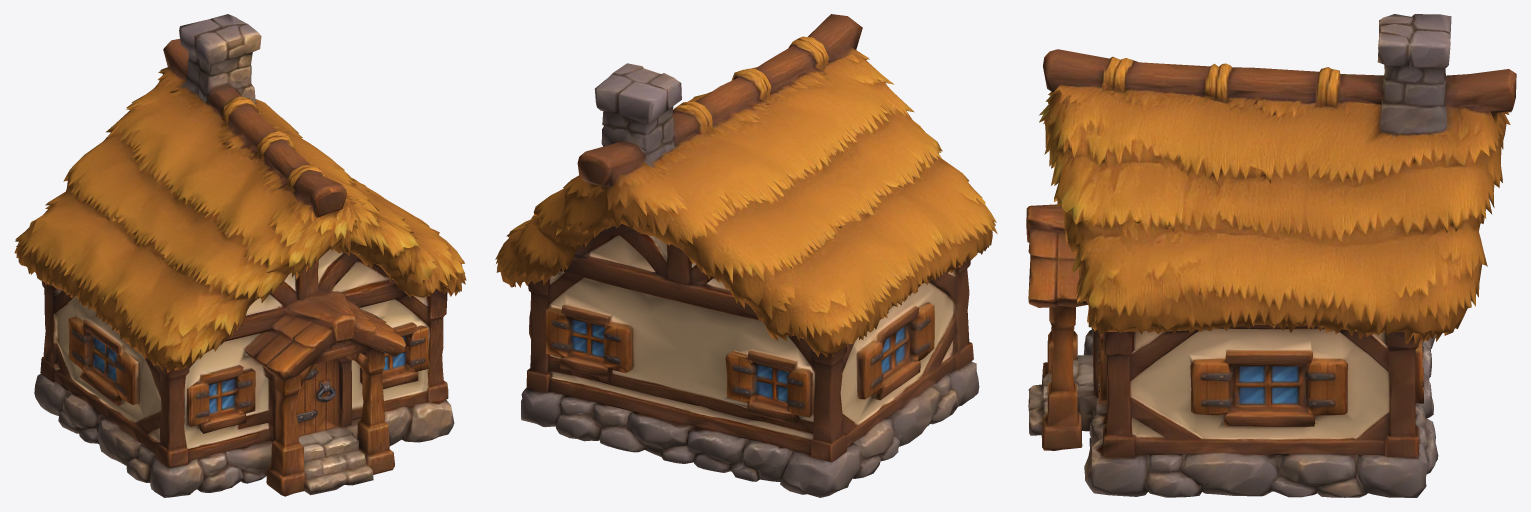
The model's file is house_b.glb.
3 renders of one model, left to right at view 1: azimuth 30°, elevation 25°; view 2: azimuth 150°, elevation 25°; view 3: azimuth 270°, elevation 25°, orthographic. The views are drawn at different scales.
Parts seen in each view (by area): view 1: house_b; view 2: house_b; view 3: house_b.
Part boxes in pixels (<box>): house_b: <box>14,14,466,497</box>; house_b: <box>495,14,997,497</box>; house_b: <box>1026,14,1516,497</box>.
Size of the model in its own units: 5.64 by 5.5 by 5.94.
Materials: 1 (1 with a texture image).
